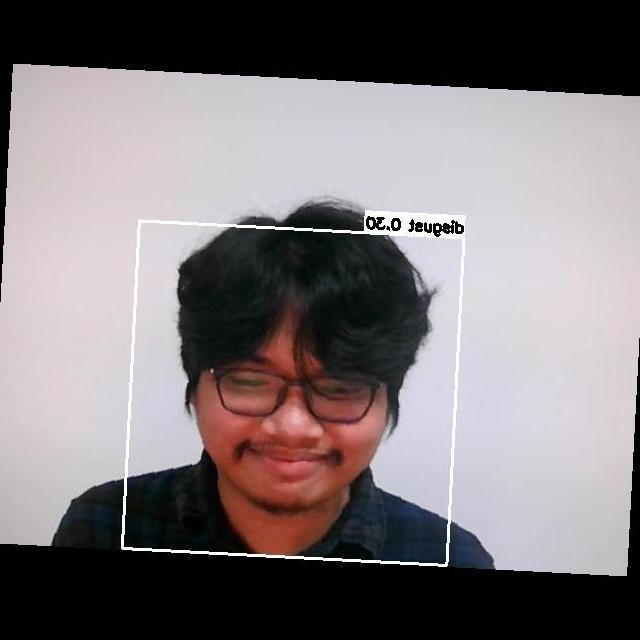Happy: (201, 335, 379, 495)
